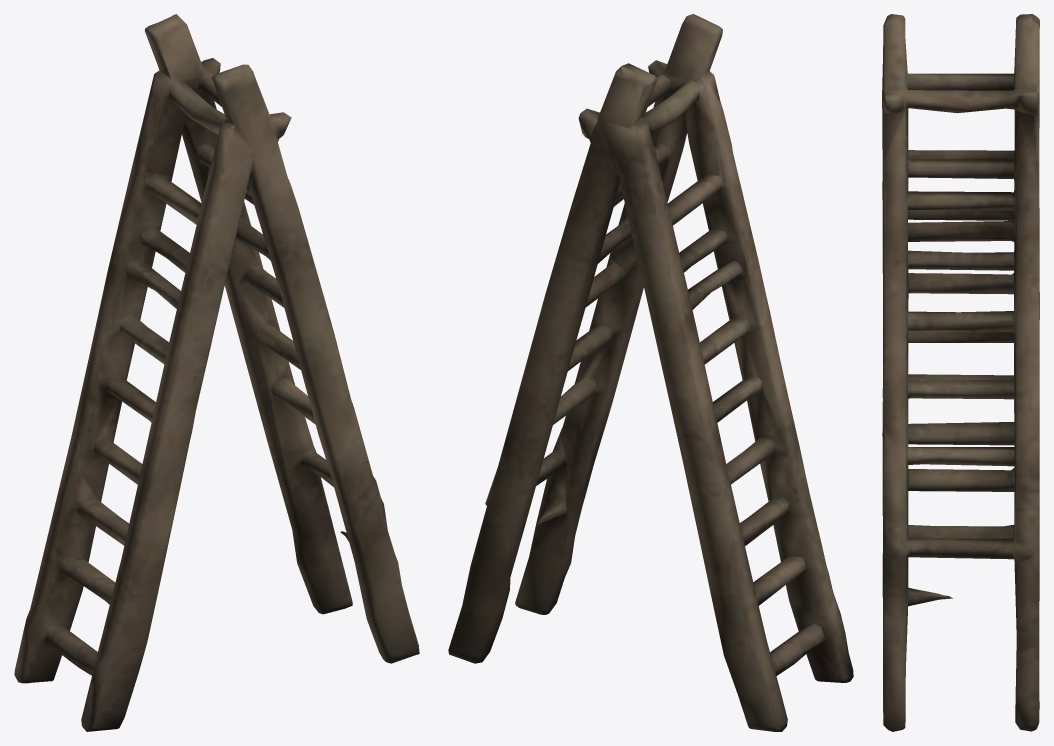
File: weathered-wood-ladder-v001.glb
3 renders of one model, left to right at view 1: azimuth 30°, elevation 25°; view 2: azimuth 150°, elevation 25°; view 3: azimuth 270°, elevation 25°, orthographic.
Visible parts, largest first — view 1: weathered-wood-ladder; view 2: weathered-wood-ladder; view 3: weathered-wood-ladder.
Part boxes in pixels (x1=…): weathered-wood-ladder: x1=14, y1=14, x2=419, y2=731; weathered-wood-ladder: x1=448, y1=14, x2=853, y2=731; weathered-wood-ladder: x1=882, y1=14, x2=1039, y2=731.
Bounding box in the file's own units: 1.33 × 2.42 × 0.5488.
1 material, 1 textured.
